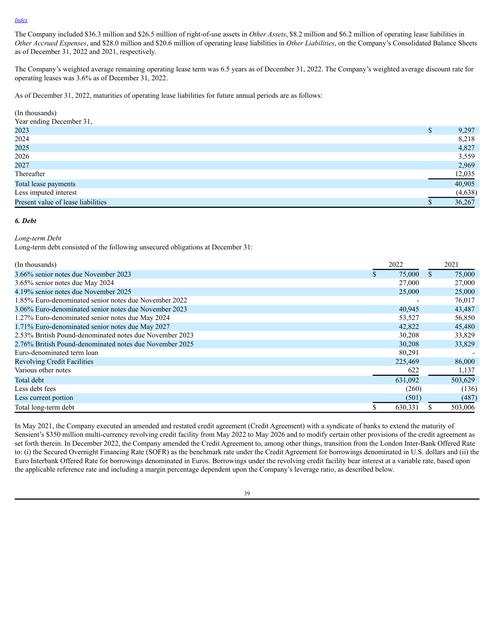box: (14, 261, 479, 416), (14, 108, 480, 209)
